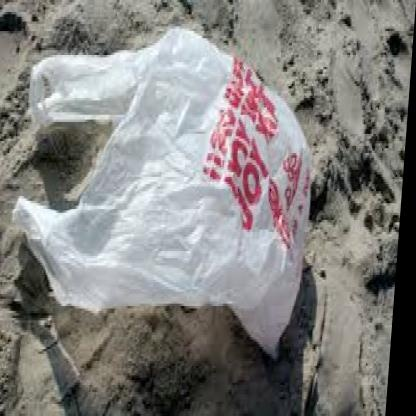trash: (14, 28, 309, 353)
